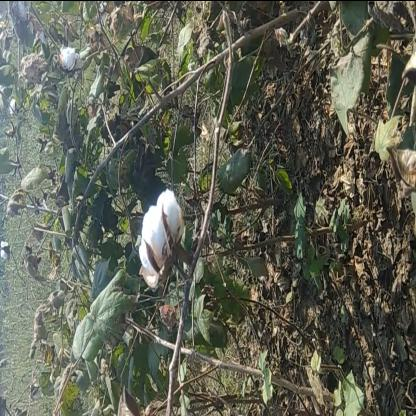cotton_ready: (127, 172, 193, 310)
